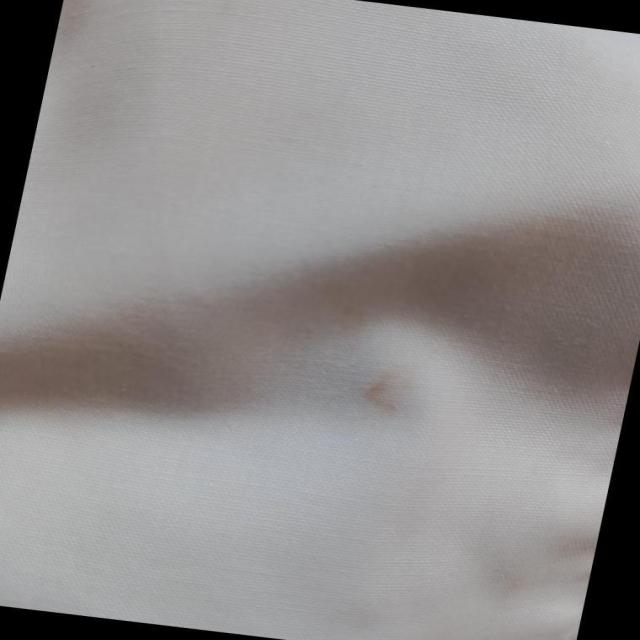stain: (344, 352, 433, 425)
